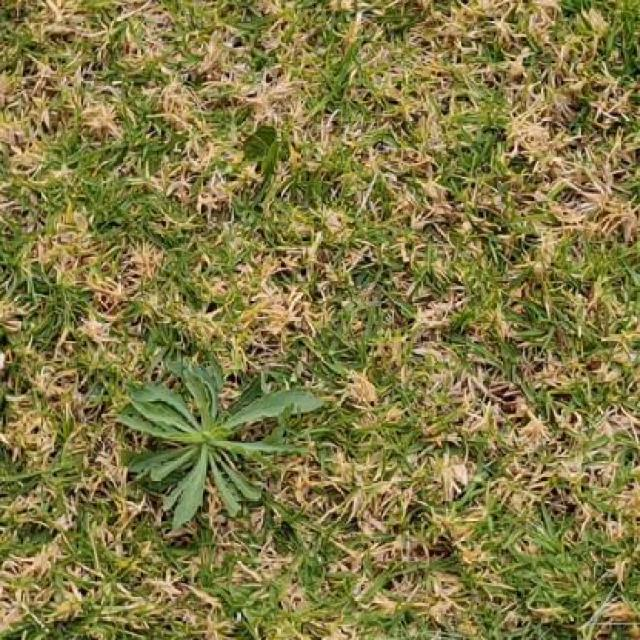weed: (120, 365, 323, 530)
